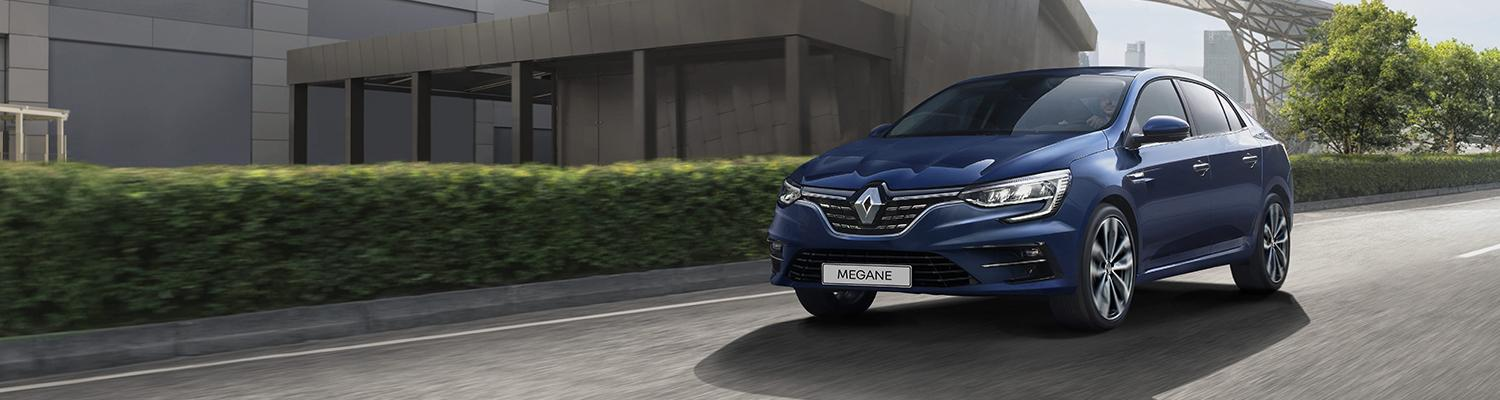Renault: (847, 180, 897, 230)
